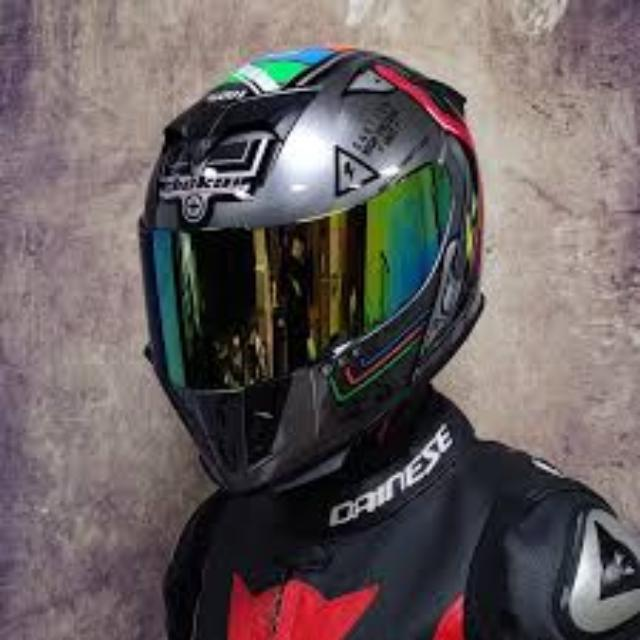motorcycle-helmets: (139, 46, 481, 484)
